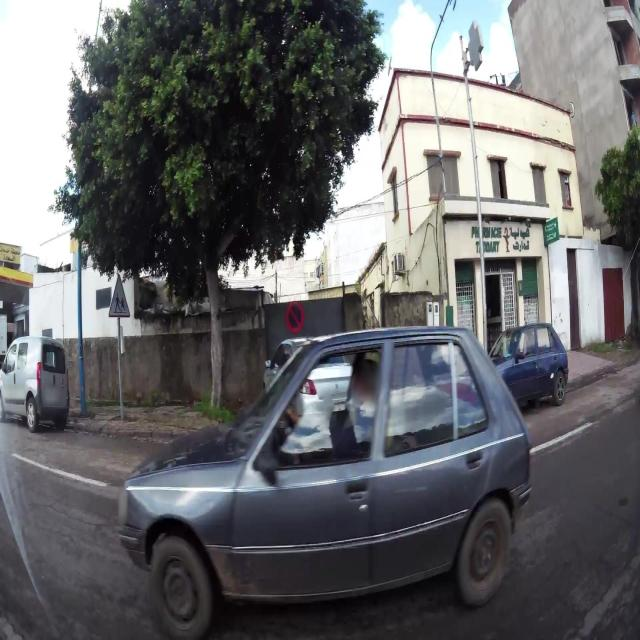forb_stopping: (285, 301, 304, 335)
